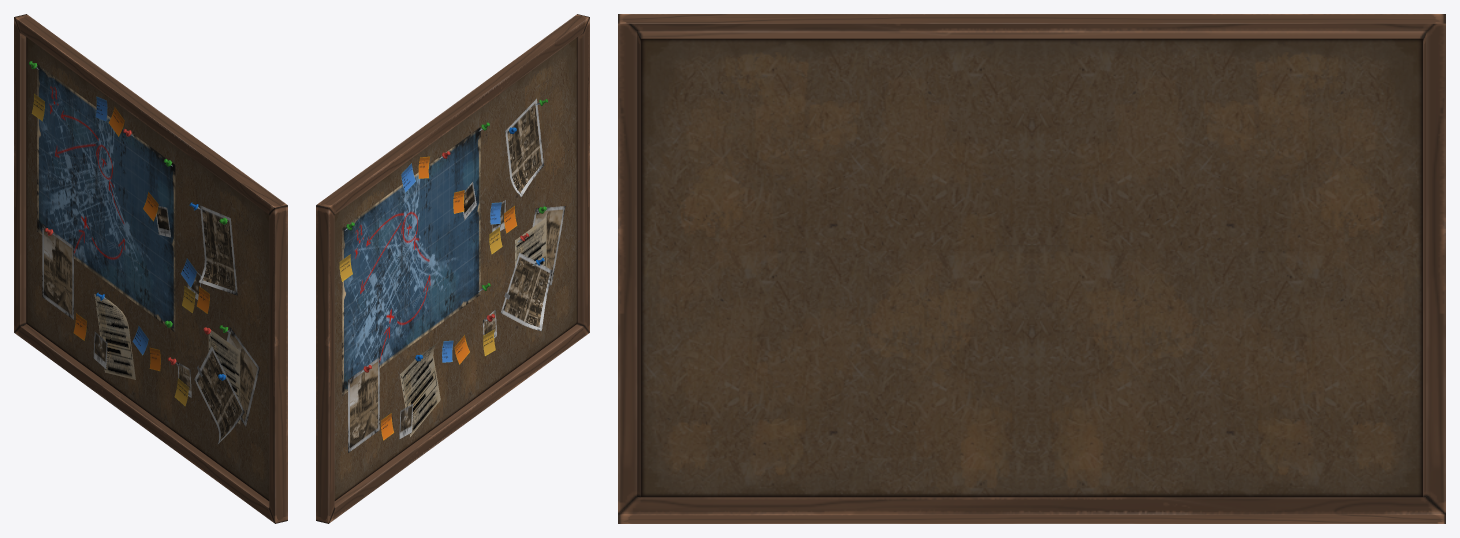
File: planningBoard03.FBX
The picture shows the model from 3 angles, left to right: view 1: azimuth 30°, elevation 25°; view 2: azimuth 150°, elevation 25°; view 3: azimuth 270°, elevation 25°; orthographic projection. The views are drawn at different scales.
Parts seen in each view (by area): view 1: planningBoard03; view 2: planningBoard03; view 3: planningBoard03.
Boxes of the visible parts, x1,y1,x2,y2 form: planningBoard03: [14, 14, 287, 523]; planningBoard03: [316, 14, 589, 523]; planningBoard03: [618, 14, 1445, 523].
Bounding box in the file's own units: 7.7 × 120 × 180.
